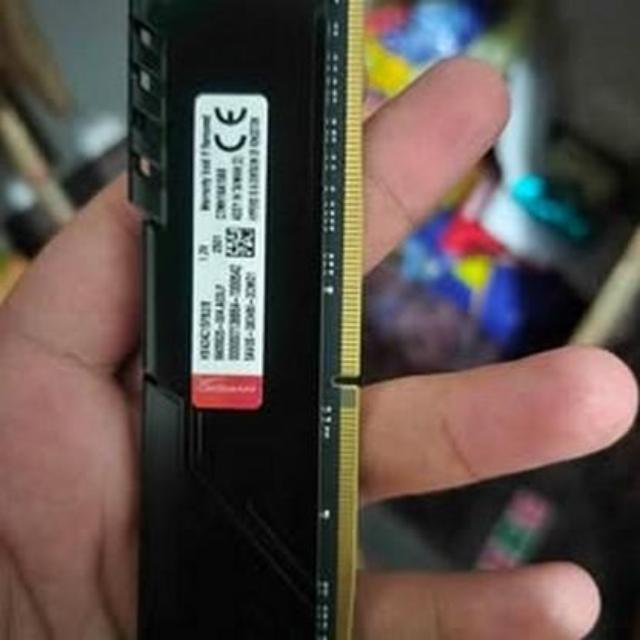RAM: (122, 0, 364, 640)
